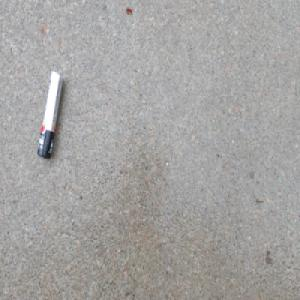Battery: (36, 69, 64, 160)
